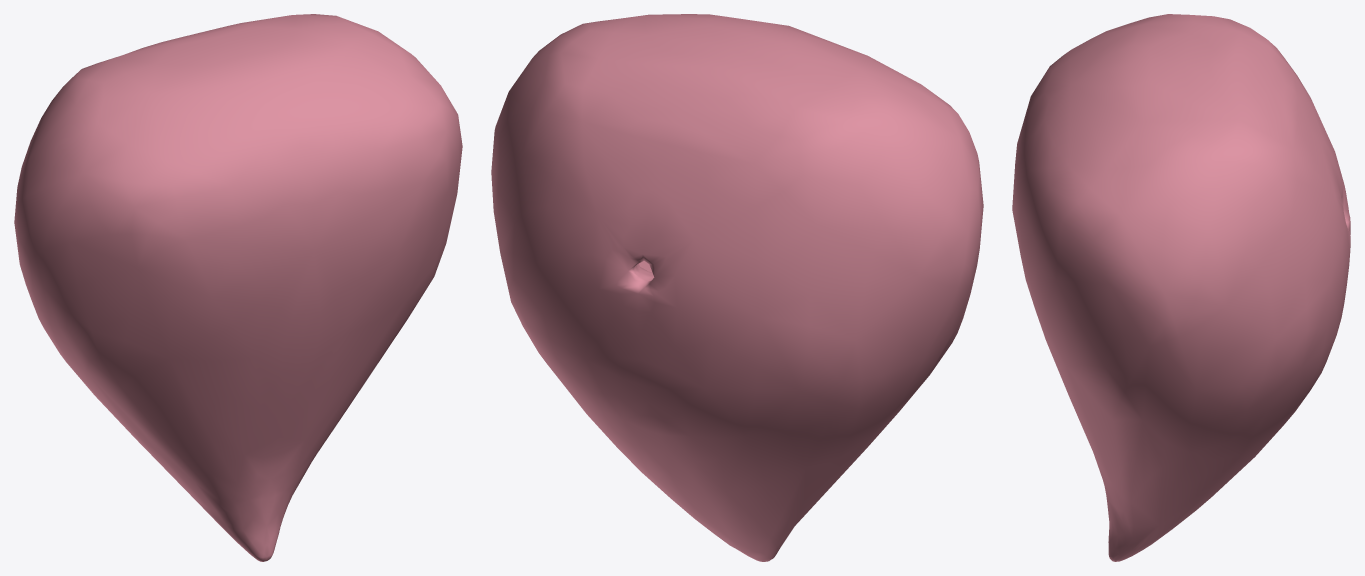
3 renders of one model, left to right at view 1: azimuth 30°, elevation 25°; view 2: azimuth 150°, elevation 25°; view 3: azimuth 270°, elevation 25°, orthographic. The views are drawn at different scales.
Parts seen in each view (by area): view 1: 膀胱; view 2: 膀胱; view 3: 膀胱.
Boxes of the visible parts, box(x1,y1,x2,y2) form: 膀胱: box(14, 14, 462, 561); 膀胱: box(491, 14, 983, 561); 膀胱: box(1012, 14, 1350, 561).
Bounding box in the file's own units: 0.1097 × 0.1227 × 0.0756.
